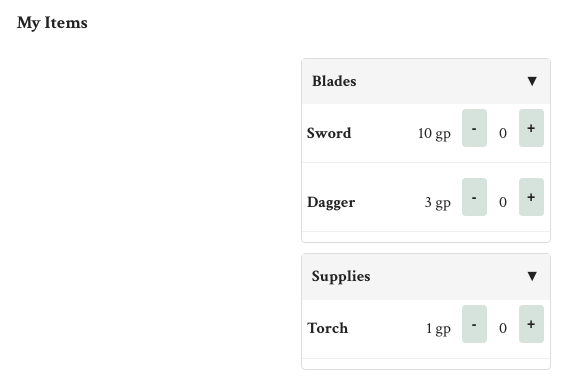
Scenario: ItemOptionsContainer › toggling categories › closes an open category when its header is clicked again
The image size is (568, 387).
Expected: the text "Sword" is shown, [307,121,352,146]
Click the text "Blades": (334, 82) [312,69,356,94]
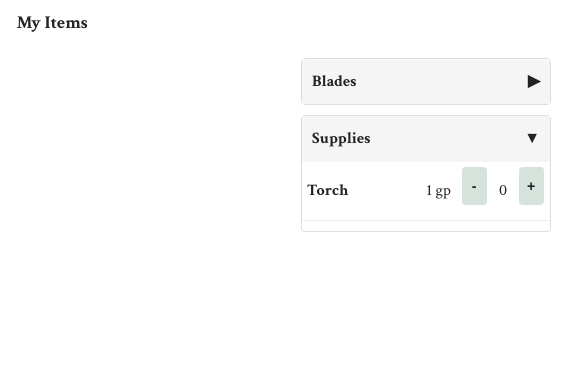
Expected: the text "Sword" is gone
